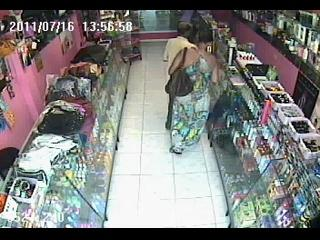Normal: (168, 35, 221, 155), (162, 22, 200, 133), (167, 46, 199, 96)
